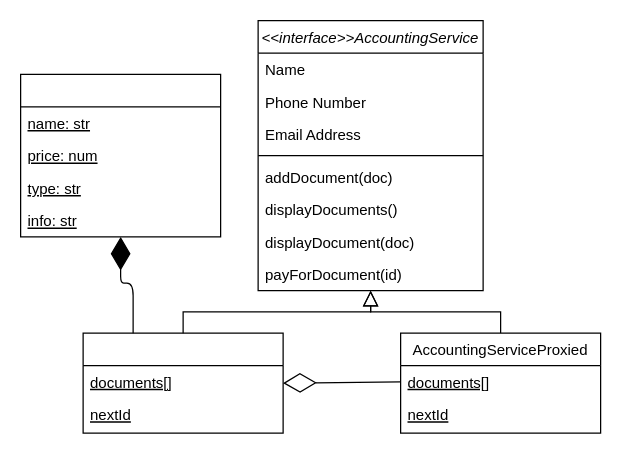
The diagram is 621 pixels wide and 454 high, and some of its shapes have lost their labels. Each missing label, with the box of its shape:
AccountingService: (82, 332, 283, 433)
Document: (19, 73, 221, 237)
